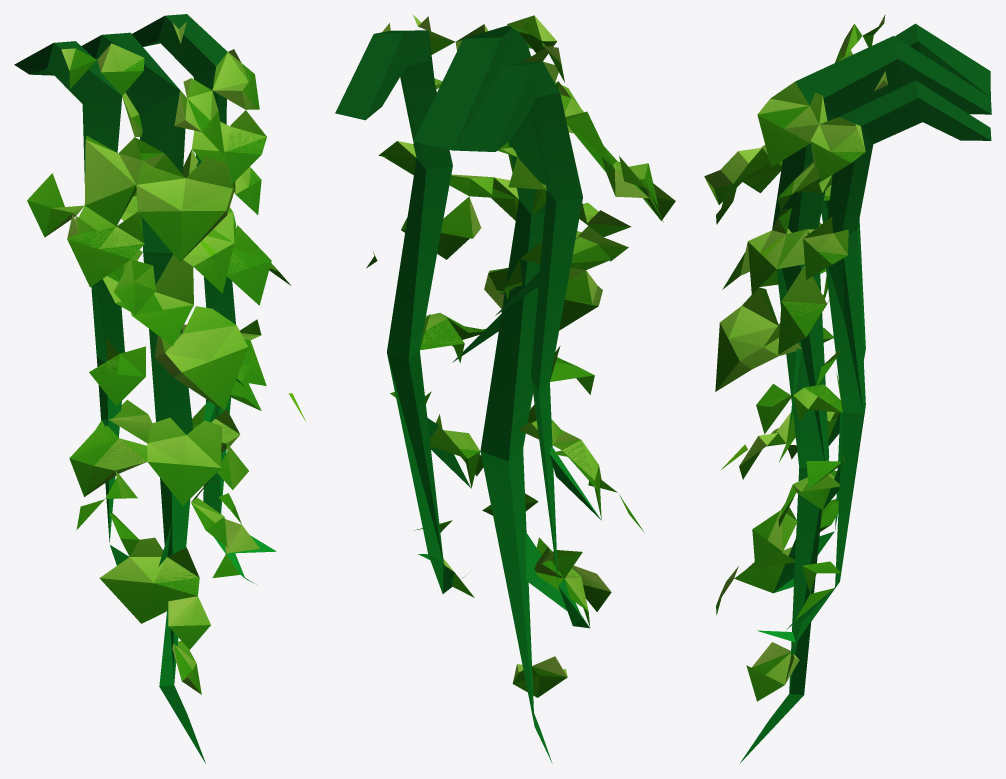
The model's file is GL-Plant-05-LOD3.fbx.
The picture shows the model from 3 angles, left to right: view 1: azimuth 30°, elevation 25°; view 2: azimuth 150°, elevation 25°; view 3: azimuth 270°, elevation 25°; orthographic projection. The views are drawn at different scales.
Parts seen in each view (by area): view 1: GL_Plant_05; view 2: GL_Plant_05; view 3: GL_Plant_05.
Part boxes in pixels (x1,y1,x2,y2): GL_Plant_05: (14,14,305,763); GL_Plant_05: (335,15,675,763); GL_Plant_05: (704,14,991,764).
Size of the model in its own units: 0.7819 by 2.04 by 0.7377.
